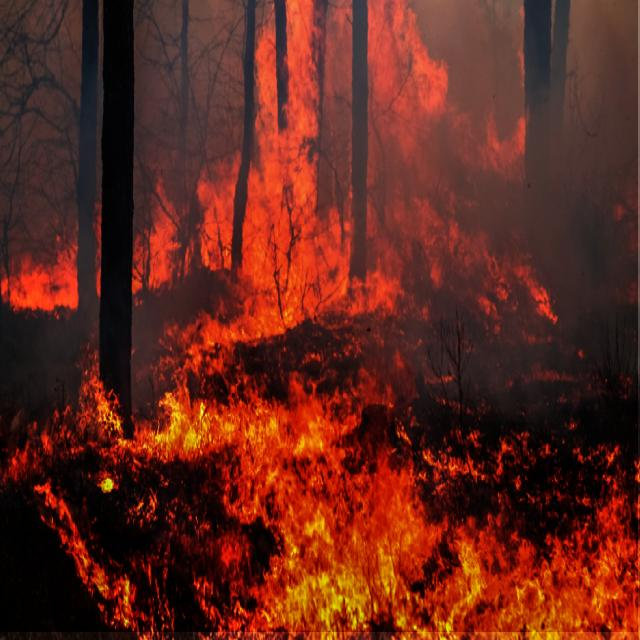Fire: (0, 0, 638, 632)
